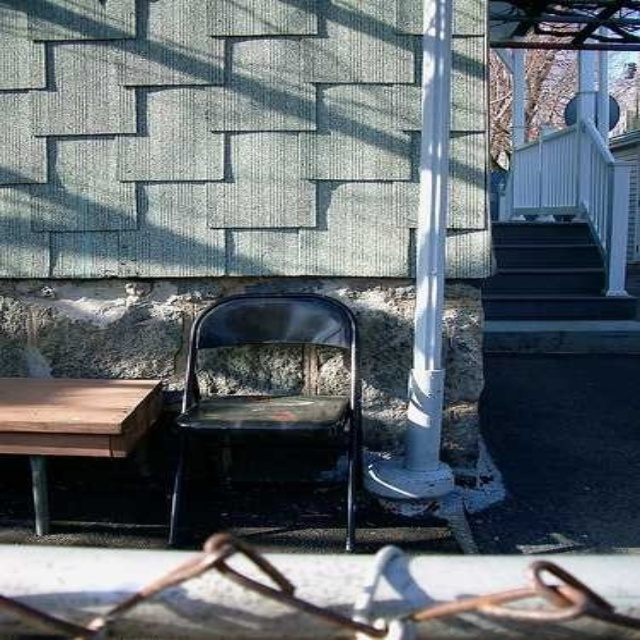obstacle: (169, 293, 358, 550)
